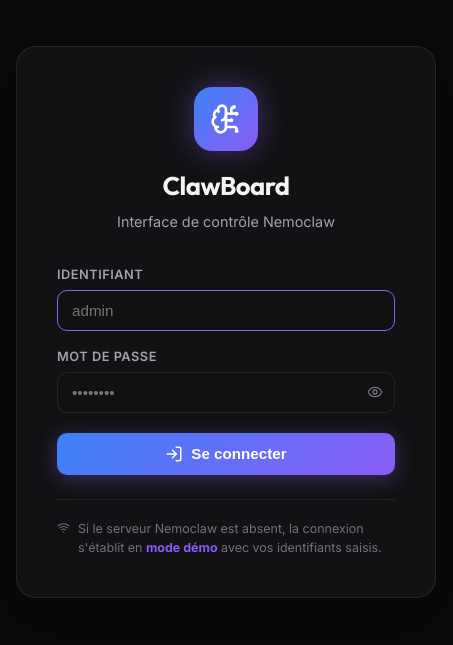
Scenario: LoginPage › shows error when submitting with empty fields
Click the button "Se connecter".
click(226, 454)  # box [57,433,395,475]
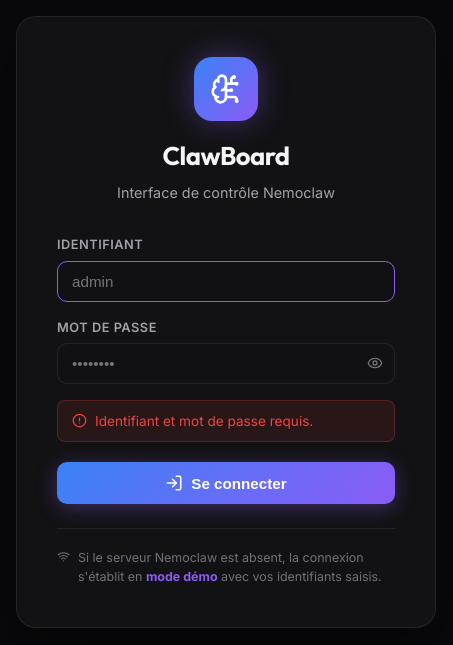
expect the text "Identifiant et mot de passe requis." is shown: met, box [57,400,395,442]
